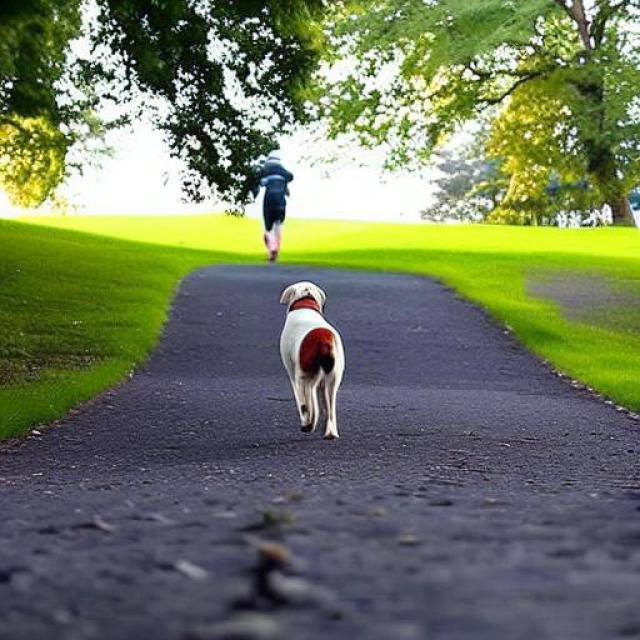Dog: (278, 282, 344, 436)
